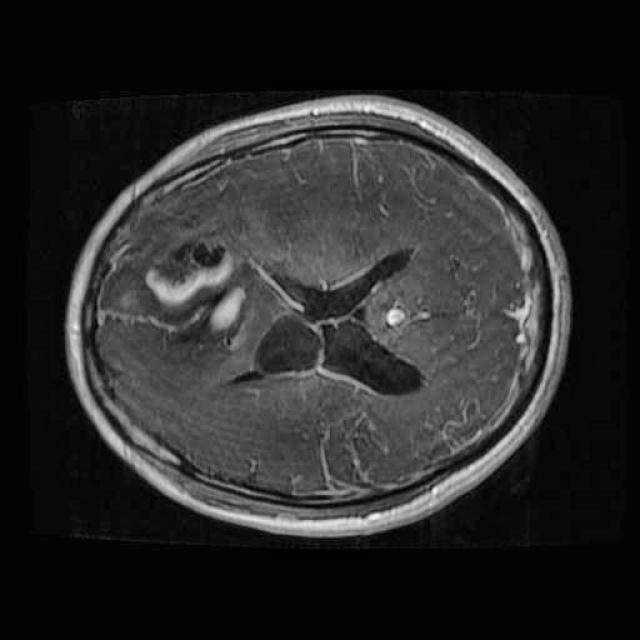Tumor: (246, 301, 334, 389)
